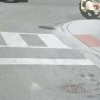crosswalk: (0, 31, 69, 48)
